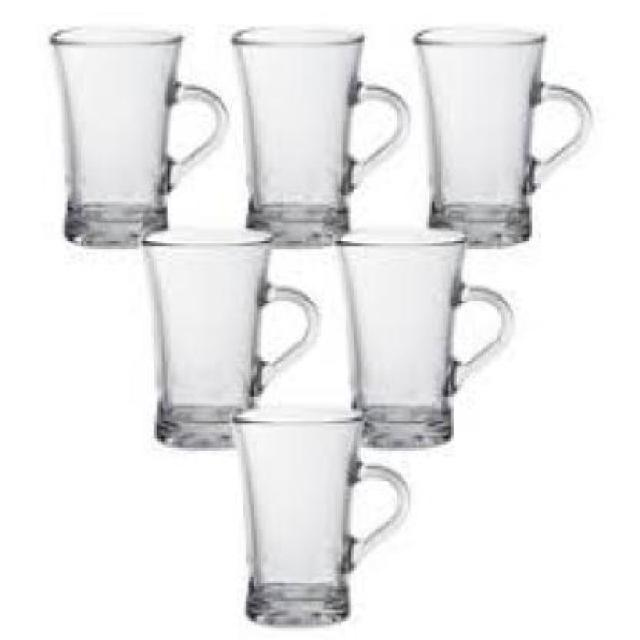kaca: (332, 220, 512, 442), (49, 22, 225, 246), (141, 226, 317, 445), (229, 25, 408, 240), (414, 22, 589, 240), (232, 406, 405, 622)
